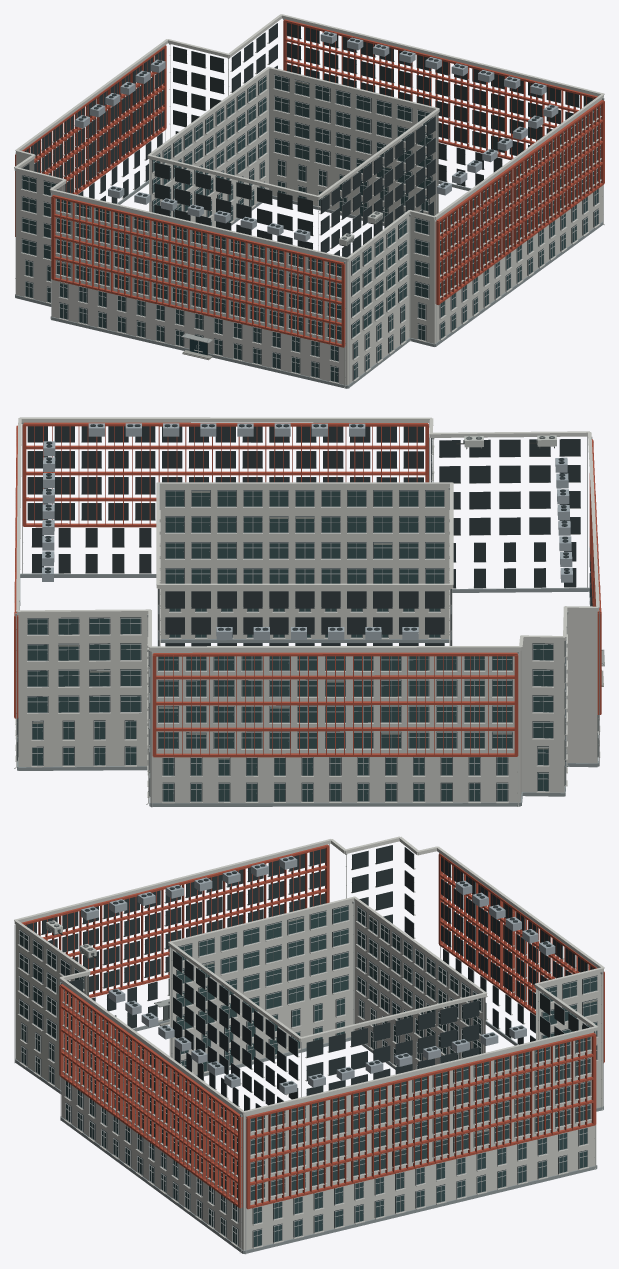
The model's file is osm_way_1173059720.glb.
3 views of the same model, one above another, from view 1: azimuth 30°, elevation 25°; view 2: azimuth 150°, elevation 25°; view 3: azimuth 270°, elevation 25° (orthographic). The views are drawn at different scales.
Parts seen in each view (by area): view 1: Windows and facade details | 材料科学与工程学院-新大楼, Architecture | 材料科学与工程学院-新大楼, Roof services | 材料科学与工程学院-新大楼, EXTERIOR::osm_way_1173059720::rainwater and roof service det, EXTERIOR::osm_way_1173059720::inferred entry doors canopy an; view 2: Windows and facade details | 材料科学与工程学院-新大楼, Architecture | 材料科学与工程学院-新大楼, Roof services | 材料科学与工程学院-新大楼, EXTERIOR::osm_way_1173059720::rainwater and roof service det, EXTERIOR::osm_way_1173059720::native pane seals and hardware; view 3: Windows and facade details | 材料科学与工程学院-新大楼, Architecture | 材料科学与工程学院-新大楼, Roof services | 材料科学与工程学院-新大楼, EXTERIOR::osm_way_1173059720::rainwater and roof service det.
Boxes of the visible parts, <box> form: Windows and facade details | 材料科学与工程学院-新大楼: <box>20,21,601,388</box>; Architecture | 材料科学与工程学院-新大楼: <box>14,16,604,388</box>; Roof services | 材料科学与工程学院-新大楼: <box>14,14,604,259</box>; EXTERIOR::osm_way_1173059720::rainwater and roof service det: <box>15,19,604,388</box>; EXTERIOR::osm_way_1173059720::inferred entry doors canopy an: <box>181,331,212,360</box>; Windows and facade details | 材料科学与工程学院-新大楼: <box>14,423,601,807</box>; Architecture | 材料科学与工程学院-新大楼: <box>14,419,601,806</box>; Roof services | 材料科学与工程学院-新大楼: <box>16,417,599,648</box>; EXTERIOR::osm_way_1173059720::rainwater and roof service det: <box>14,422,592,806</box>; EXTERIOR::osm_way_1173059720::native pane seals and hardware: <box>32,491,548,793</box>; Windows and facade details | 材料科学与工程学院-新大楼: <box>14,844,603,1254</box>; Architecture | 材料科学与工程学院-新大楼: <box>14,838,604,1253</box>; Roof services | 材料科学与工程学院-新大楼: <box>14,836,604,1112</box>; EXTERIOR::osm_way_1173059720::rainwater and roof service det: <box>46,854,602,1252</box>.
Bounding box in the file's own units: 94.78 × 23.58 × 85.7.
